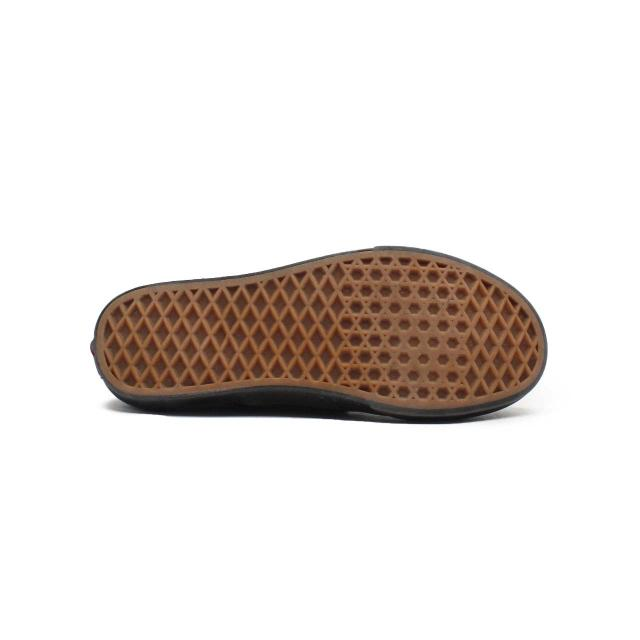outersole: (90, 248, 549, 419)
